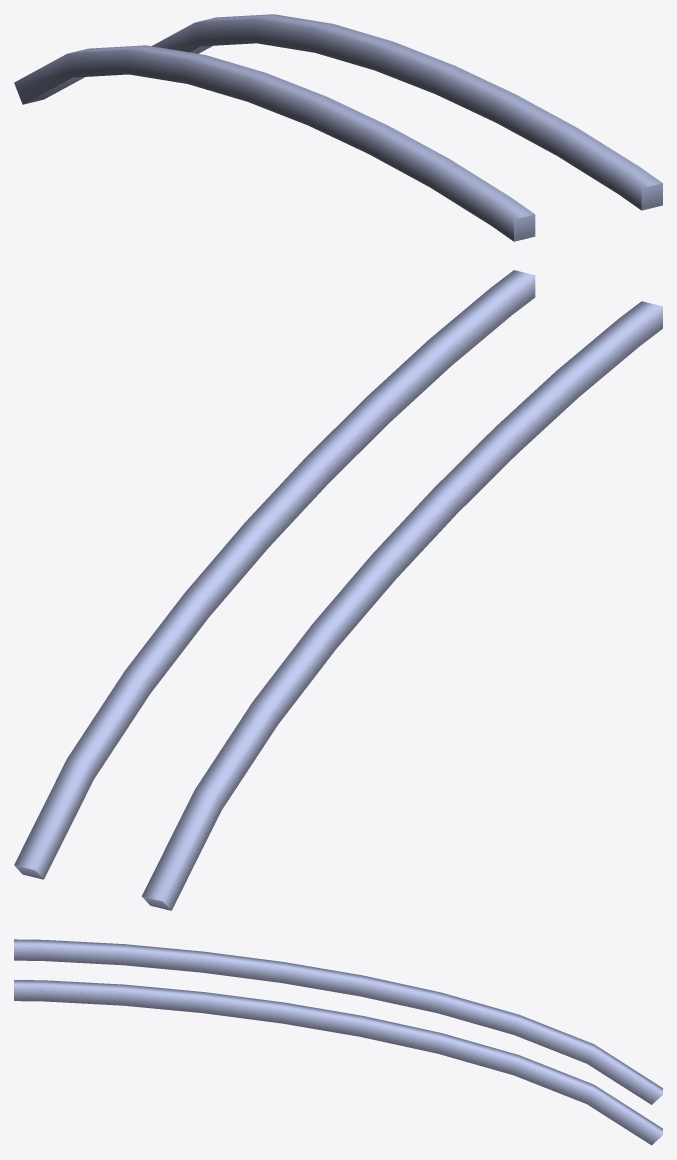
The model's file is railroad-rail-straight-hill-end.glb.
3 views of the same model, one above another, from view 1: azimuth 30°, elevation 25°; view 2: azimuth 150°, elevation 25°; view 3: azimuth 270°, elevation 25° (orthographic). The views are drawn at different scales.
Parts seen in each view (by area): view 1: railroad-rail-straight-hill-end; view 2: railroad-rail-straight-hill-end; view 3: railroad-rail-straight-hill-end.
Boxes of the visible parts, <box> form: railroad-rail-straight-hill-end: <box>14,14,662,241</box>; railroad-rail-straight-hill-end: <box>14,270,662,910</box>; railroad-rail-straight-hill-end: <box>14,939,662,1145</box>.
Size of the model in its own units: 0.7002 by 1.1 by 4.07.
Materials: 1 (1 with a texture image).
